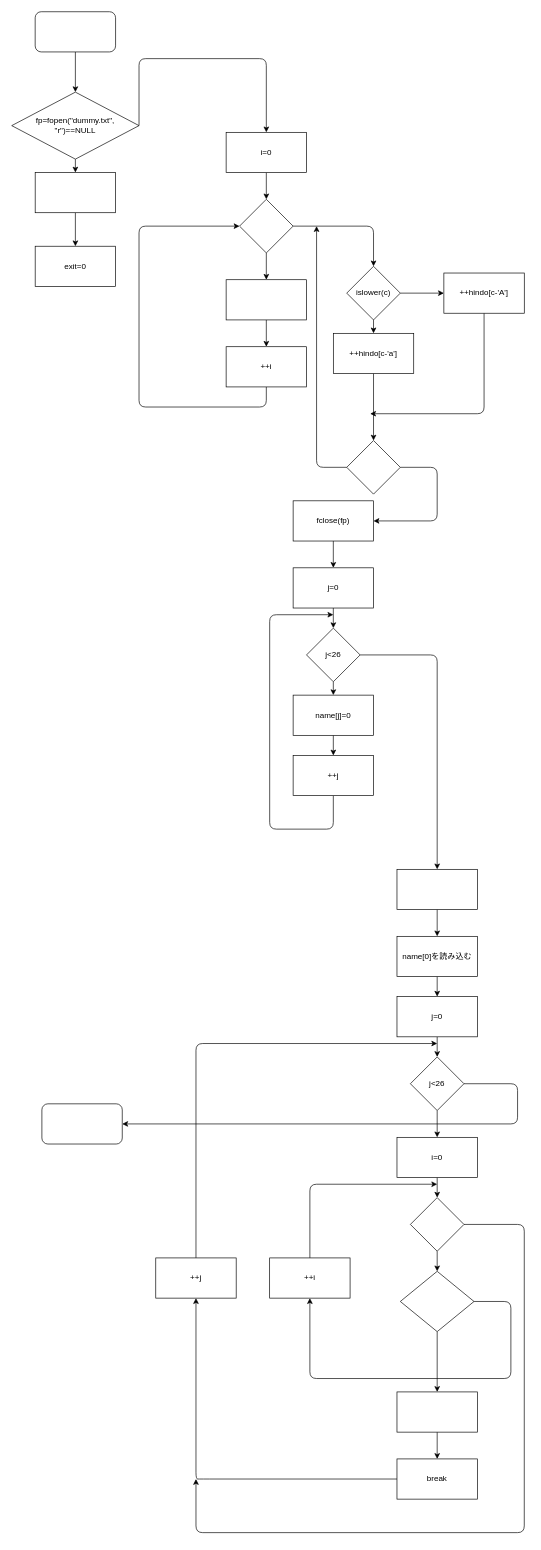
Some shapes in this 541 by 1550 pixel diagram are drawn without their labels. The centre of each missing label's shape, as x and y in pixels:
"('a'+j)! =name[i]!=\0" goes at point 437,1301.
"c=getc(fp)! =EOF" goes at point 373,467.
"end" goes at point 81,1123.
"hindo[i]=0" goes at point 266,299.
"i<26" goes at point 266,226.
"name[i]!=0" goes at point 437,1224.
"start" goes at point 75,31.
"ファイルが見つかりません" goes at point 75,192.
"値を表示" goes at point 436,1411.
"名前を入力してください" goes at point 436,889.
